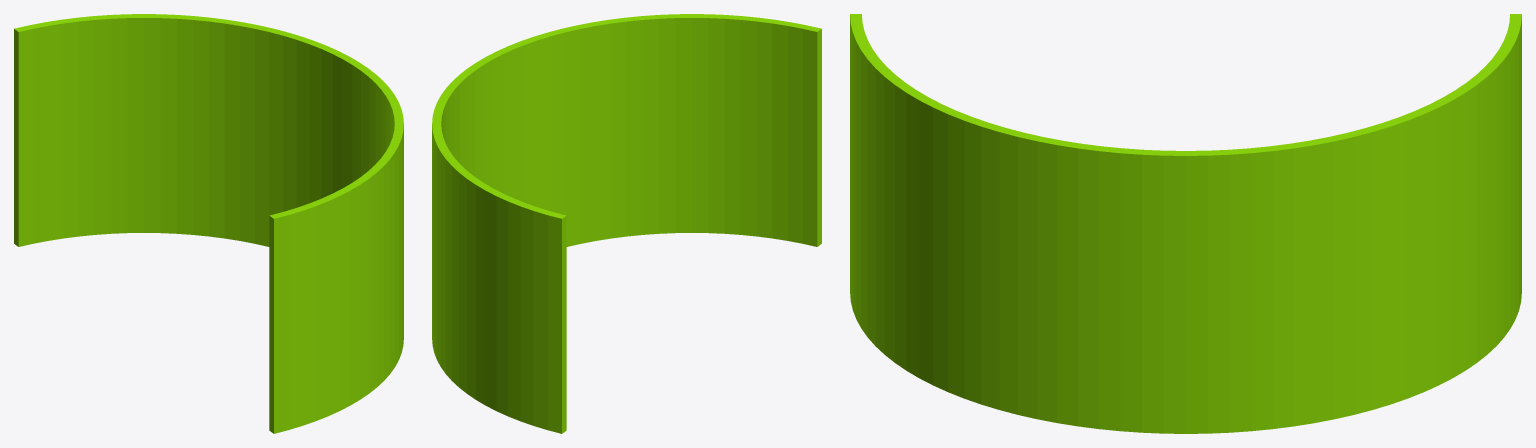
Rendered from Wall_02_Mod3.fbx.
3 views of the same model, side by side, from view 1: azimuth 30°, elevation 25°; view 2: azimuth 150°, elevation 25°; view 3: azimuth 270°, elevation 25° (orthographic). The views are drawn at different scales.
Visible parts, largest first — view 1: Wall_02_Mod3; view 2: Wall_02_Mod3; view 3: Wall_02_Mod3.
Boxes of the visible parts, x1,y1,x2,y2 form: Wall_02_Mod3: (14, 14, 403, 433); Wall_02_Mod3: (432, 14, 821, 433); Wall_02_Mod3: (850, 14, 1521, 433).
Bounding box in the file's own units: 627 × 572 × 1254.
